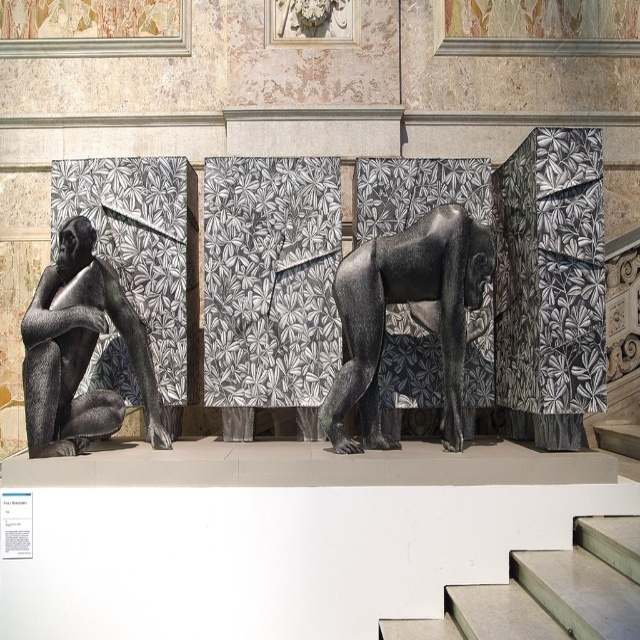Monkey: (25, 169, 182, 439)
